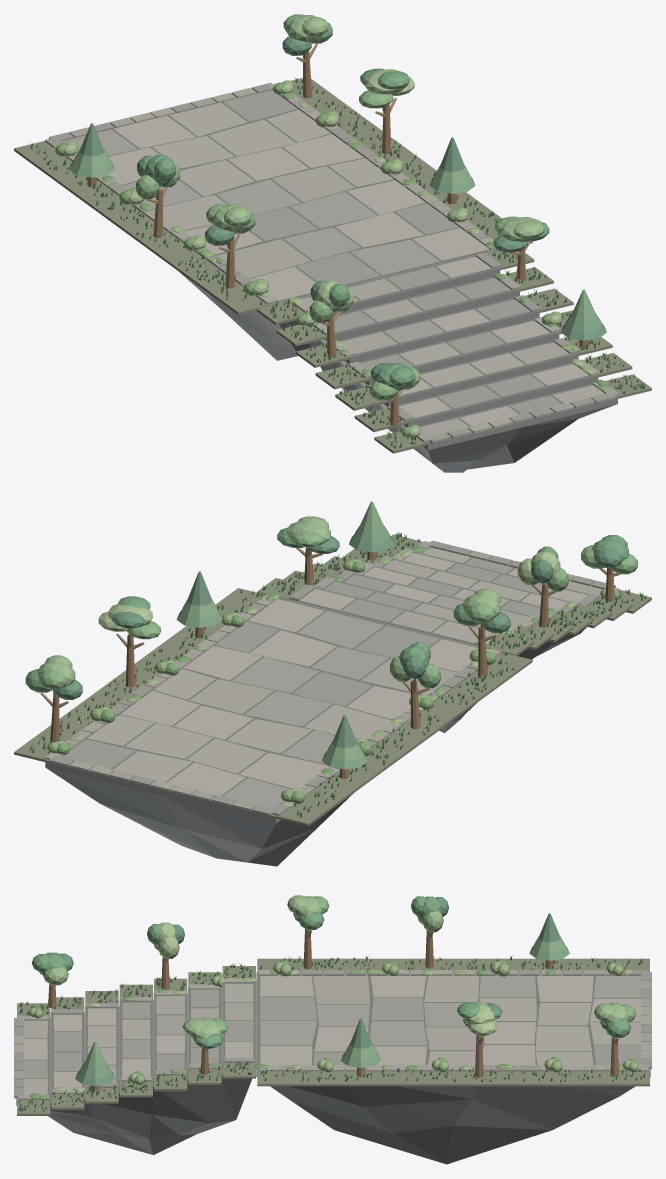
File: fase3_nova.fbx
3 views of the same model, one above another, from view 1: azimuth 30°, elevation 25°; view 2: azimuth 150°, elevation 25°; view 3: azimuth 270°, elevation 25° (orthographic). The views are drawn at different scales.
Parts seen in each view (by area): view 1: F3_Canteiro_Patamar_E, F3_Rocha_Escadaria, F3_Canteiro_Patamar_D, F3_Patamar_Juntas, F3_Rocha_Patamar, F3_Laje_Patamar_02_01, F3_Laje_Patamar_01_03, F3_Laje_Patamar_03_03, F3_Laje_Patamar_06_03, F3_Laje_Patamar_02_03, F3_Escada_Estrutura_05, F3_Escada_Estrutura_02 (+54 smaller); view 2: F3_Rocha_Patamar, F3_Canteiro_Patamar_E, F3_Canteiro_Patamar_D, F3_Patamar_Juntas, F3_Laje_Patamar_06_01, F3_Patamar_Estrutura, F3_Laje_Patamar_01_03, F3_Laje_Patamar_03_03, F3_Laje_Patamar_06_03, F3_Laje_Patamar_04_02, F3_Laje_Patamar_02_03, F3_Laje_Patamar_05_02 (+32 smaller); view 3: F3_Rocha_Patamar, F3_Rocha_Escadaria, F3_Canteiro_Patamar_D, F3_Canteiro_Patamar_E, F3_Patamar_Juntas, F3_Laje_Patamar_02_01, F3_Laje_Patamar_06_01, F3_Laje_Patamar_01_03, F3_Laje_Patamar_04_01, F3_Laje_Patamar_03_03, F3_Laje_Patamar_06_03, F3_Laje_Patamar_01_02 (+60 smaller).
Boxes of the visible parts, x1,y1,x2,y2 form: F3_Canteiro_Patamar_E: [14, 141, 272, 314]; F3_Rocha_Escadaria: [309, 339, 616, 472]; F3_Canteiro_Patamar_D: [291, 78, 532, 243]; F3_Patamar_Juntas: [108, 102, 494, 303]; F3_Rocha_Patamar: [179, 272, 310, 360]; F3_Laje_Patamar_02_01: [218, 239, 310, 278]; F3_Laje_Patamar_01_03: [350, 239, 439, 275]; F3_Laje_Patamar_03_03: [290, 191, 377, 228]; F3_Laje_Patamar_06_03: [208, 119, 295, 156]; F3_Laje_Patamar_02_03: [335, 212, 423, 247]; F3_Escada_Estrutura_05: [339, 298, 539, 363]; F3_Escada_Estrutura_02: [398, 363, 598, 426]; F3_Rocha_Patamar: [46, 767, 353, 866]; F3_Canteiro_Patamar_E: [274, 652, 532, 826]; F3_Canteiro_Patamar_D: [14, 588, 265, 761]; F3_Patamar_Juntas: [48, 598, 478, 815]; F3_Laje_Patamar_06_01: [239, 753, 328, 789]; F3_Patamar_Estrutura: [45, 597, 489, 823]; F3_Laje_Patamar_01_03: [298, 611, 384, 648]; F3_Laje_Patamar_03_03: [232, 657, 319, 693]; F3_Laje_Patamar_06_03: [125, 723, 213, 758]; F3_Laje_Patamar_04_02: [244, 691, 332, 726]; F3_Laje_Patamar_02_03: [250, 630, 336, 666]; F3_Laje_Patamar_05_02: [226, 719, 312, 753]; F3_Rocha_Patamar: [257, 1077, 650, 1164]; F3_Rocha_Escadaria: [48, 1068, 256, 1154]; F3_Canteiro_Patamar_D: [257, 1069, 649, 1086]; F3_Canteiro_Patamar_E: [257, 958, 649, 973]; F3_Patamar_Juntas: [258, 972, 648, 1069]; F3_Laje_Patamar_02_01: [313, 974, 370, 1004]; F3_Laje_Patamar_06_01: [537, 974, 593, 1002]; F3_Laje_Patamar_01_03: [260, 1020, 316, 1045]; F3_Laje_Patamar_04_01: [424, 974, 478, 1001]; F3_Laje_Patamar_03_03: [370, 1021, 427, 1045]; F3_Laje_Patamar_06_03: [535, 1026, 591, 1050]; F3_Laje_Patamar_01_02: [260, 997, 316, 1019].
Size of the model in its own units: 1822 by 1386 by 3721.
